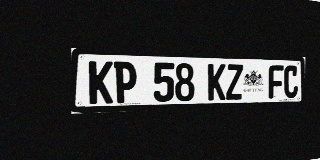5: (154, 62, 174, 102)
8: (175, 63, 195, 101)
C: (284, 65, 298, 98)
F: (269, 65, 284, 99)
K: (89, 61, 113, 104), (208, 64, 226, 100)
P: (114, 61, 137, 103)
Z: (226, 64, 243, 100)
